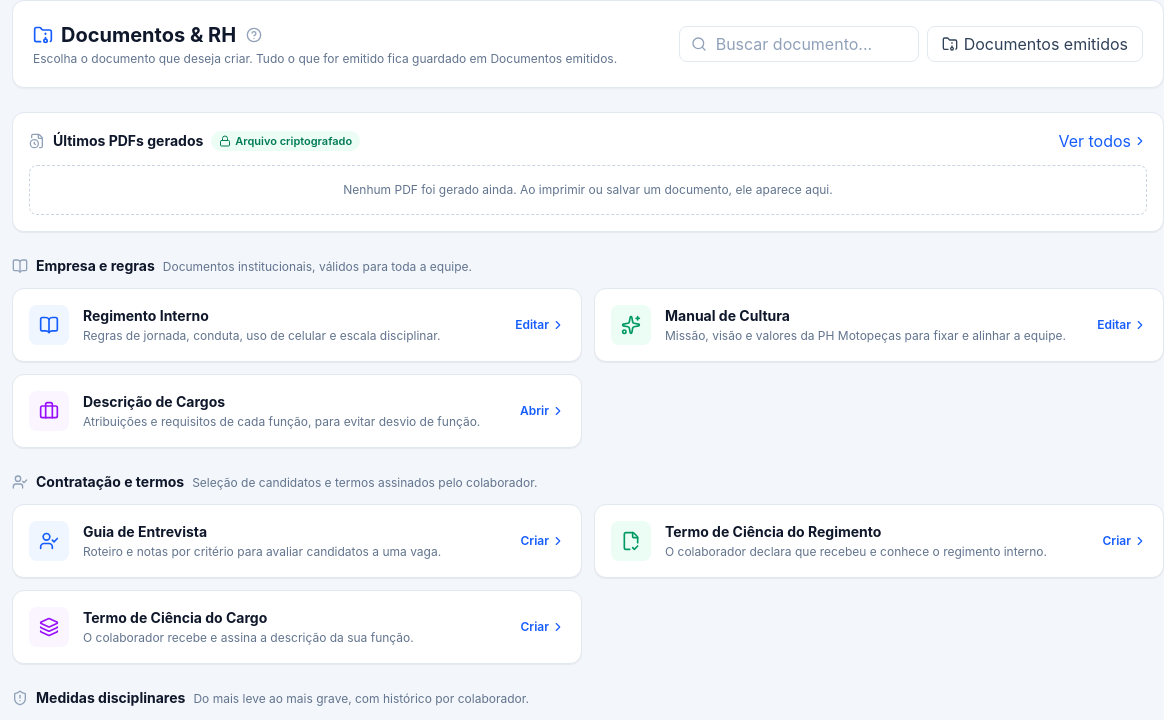
Test: DocumentsHubPage › filters documents with accent-insensitive search and hides empty sections
Step 1. Type "suspensao" into the search field labelled "Buscar documento" → [799, 44], box [679,26,919,62]
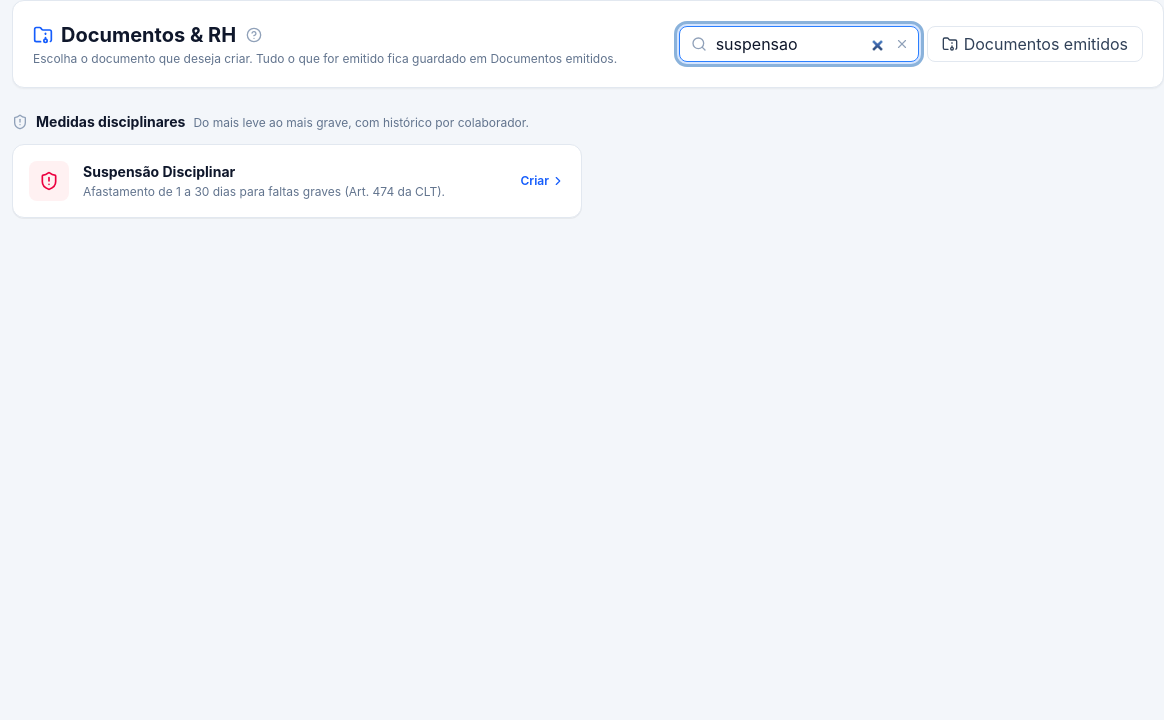
Expected: the heading "Suspensão Disciplinar" is shown, [83,163,235,180]
Expected: the link "Regimento Interno" is gone
Expected: the heading "Empresa e regras" is gone
Step 2. Replace the text in the search field named "Buscar documento" with "xyz" → [799, 44], box [679,26,919,62]
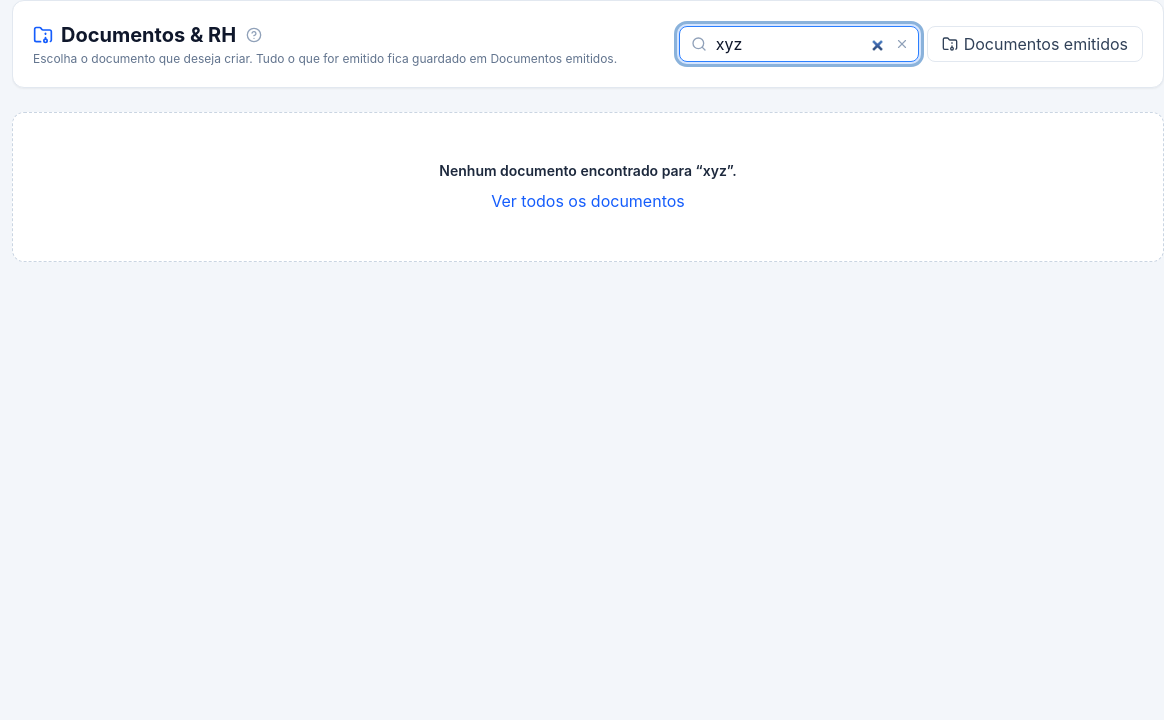
Expected: the text "Nenhum documento encontrado para “xyz”." is shown, [439,162,737,179]
Step 3. Click the button "Ver todos os documentos" → [588, 201], box [491,189,685,213]
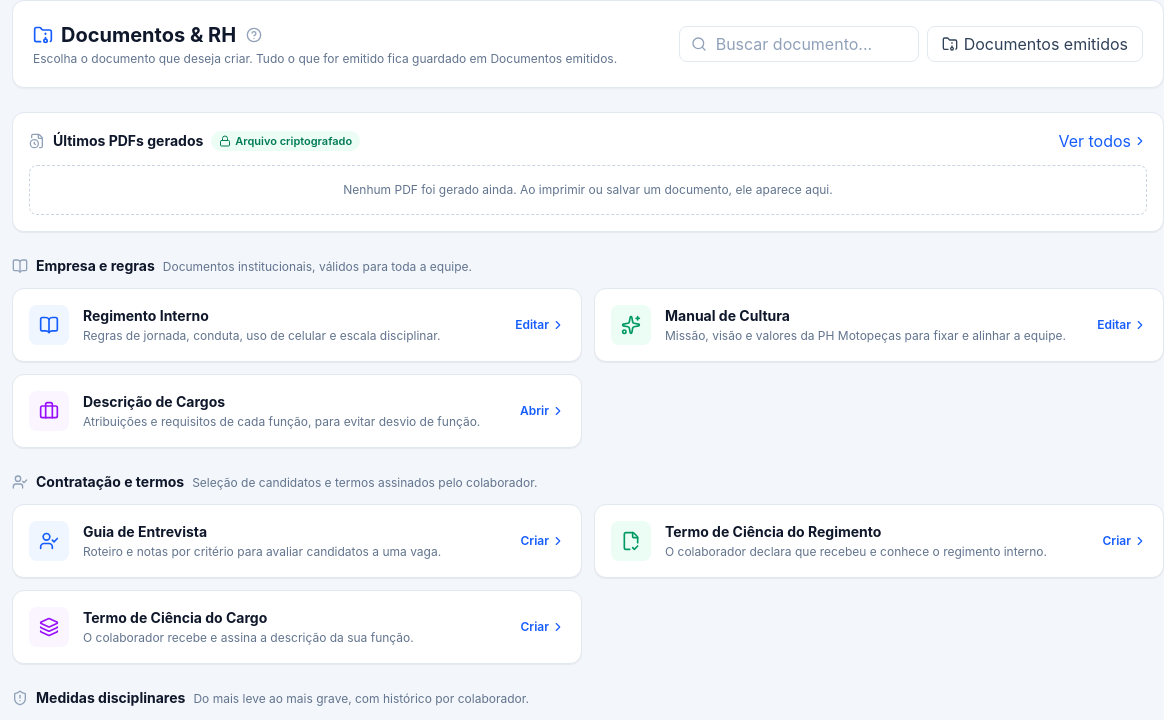
Expected: the heading "Regimento Interno" is shown, [83,307,209,324]
